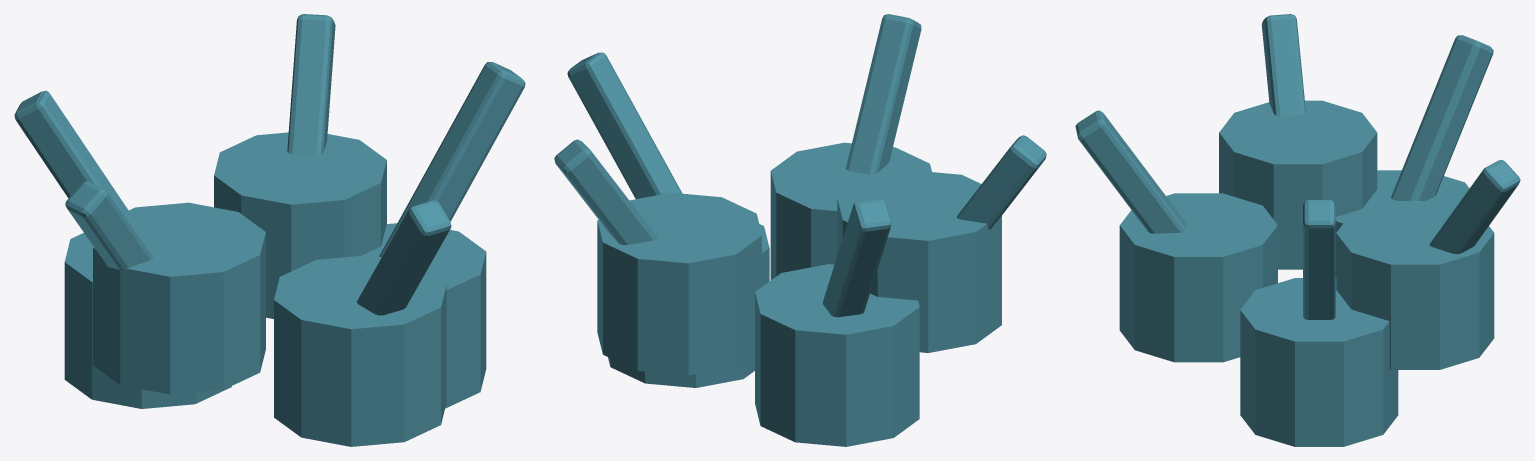
Rendered from 3_Detail.fbx.
3 renders of one model, left to right at view 1: azimuth 30°, elevation 25°; view 2: azimuth 150°, elevation 25°; view 3: azimuth 270°, elevation 25°, orthographic. The views are drawn at different scales.
Parts seen in each view (by area): view 1: Body; view 2: Body; view 3: Body.
Boxes of the visible parts, bbox=[...] form: Body: bbox=[14, 14, 525, 446]; Body: bbox=[554, 14, 1046, 446]; Body: bbox=[1075, 14, 1520, 446].
Bounding box in the file's own units: 1.04 × 0.6095 × 0.9568.
